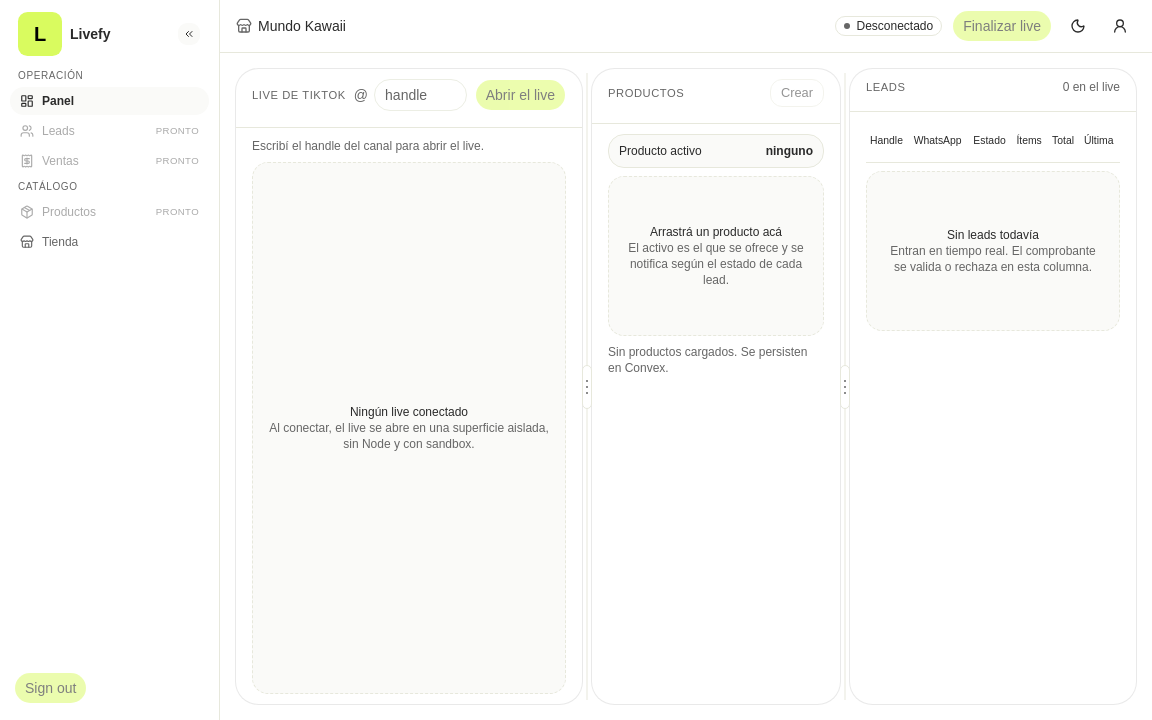
Test case: panel — the live surface › names a channel main refused, instead of leaving the rectangle loading
This screenshot has width=1152, height=720.
Type "mundokawaii" into the field named "Canal de TikTok". click: x=420, y=95
box: [374,79,467,111]
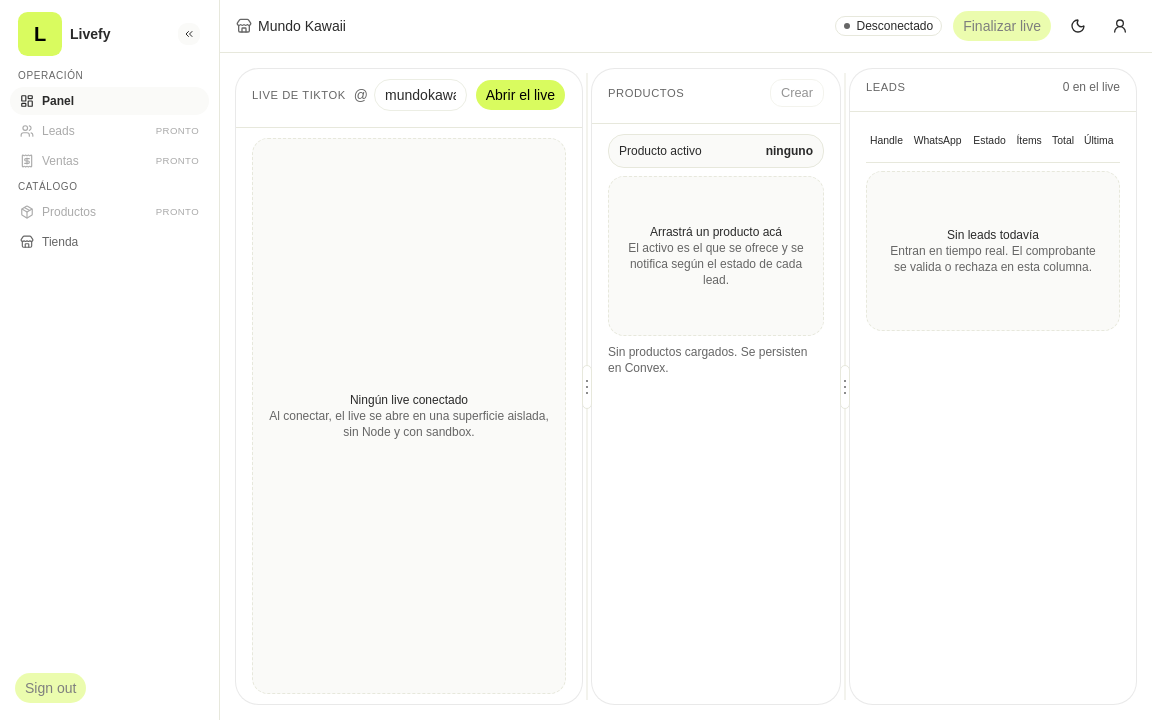
Click the button "Abrir el live". click: x=520, y=95
box: [475,79,566,111]
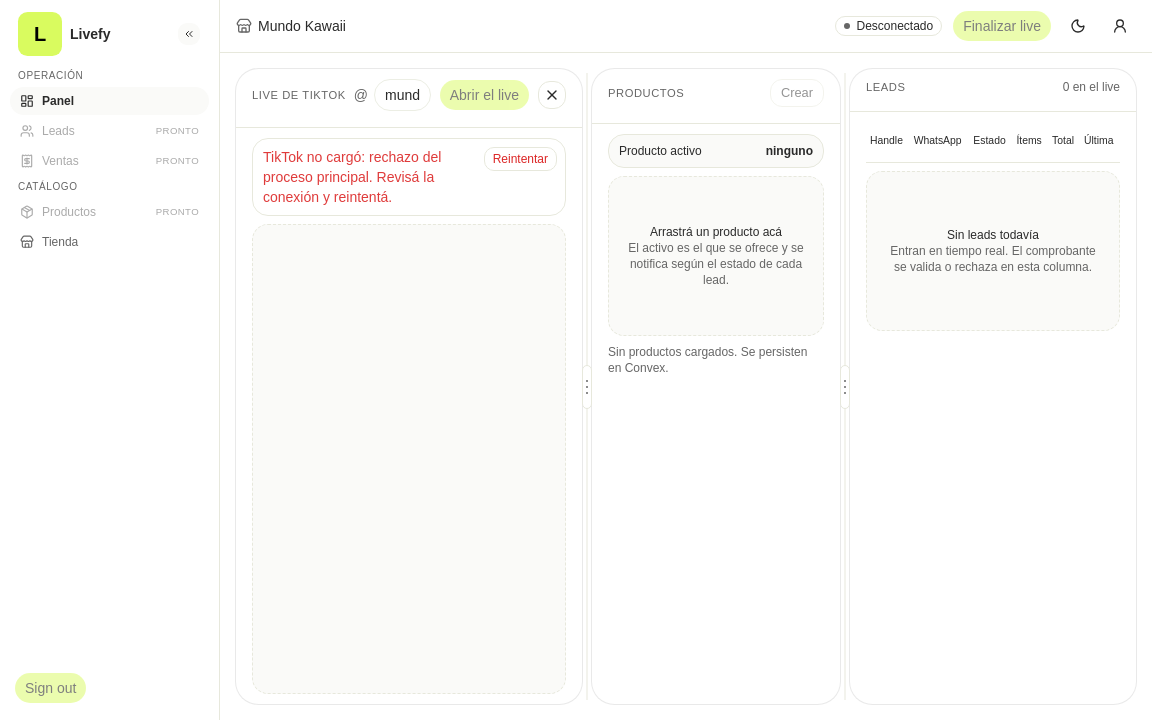
Expected: the message shows "rechazo del proceso principal", [263,149,442,205]
